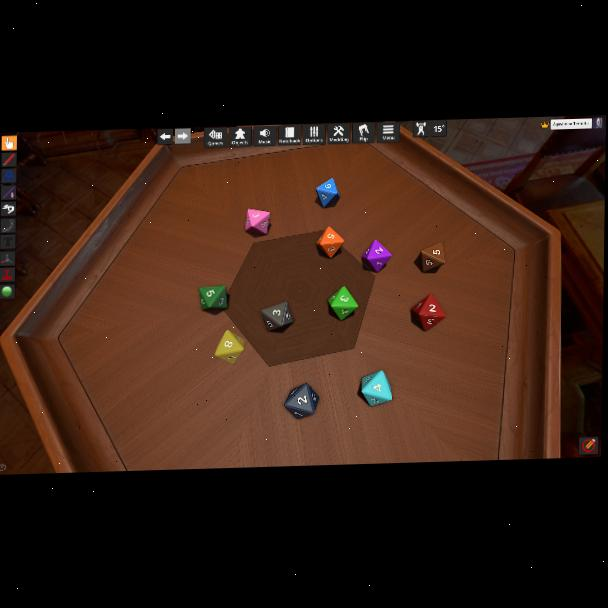d8: (413, 293, 447, 331), (283, 382, 317, 418), (359, 369, 391, 405), (328, 286, 359, 321), (215, 329, 245, 363), (260, 302, 292, 332), (316, 226, 345, 259), (363, 239, 391, 272), (315, 178, 339, 209), (421, 242, 445, 272), (245, 207, 270, 235), (199, 286, 226, 311)
